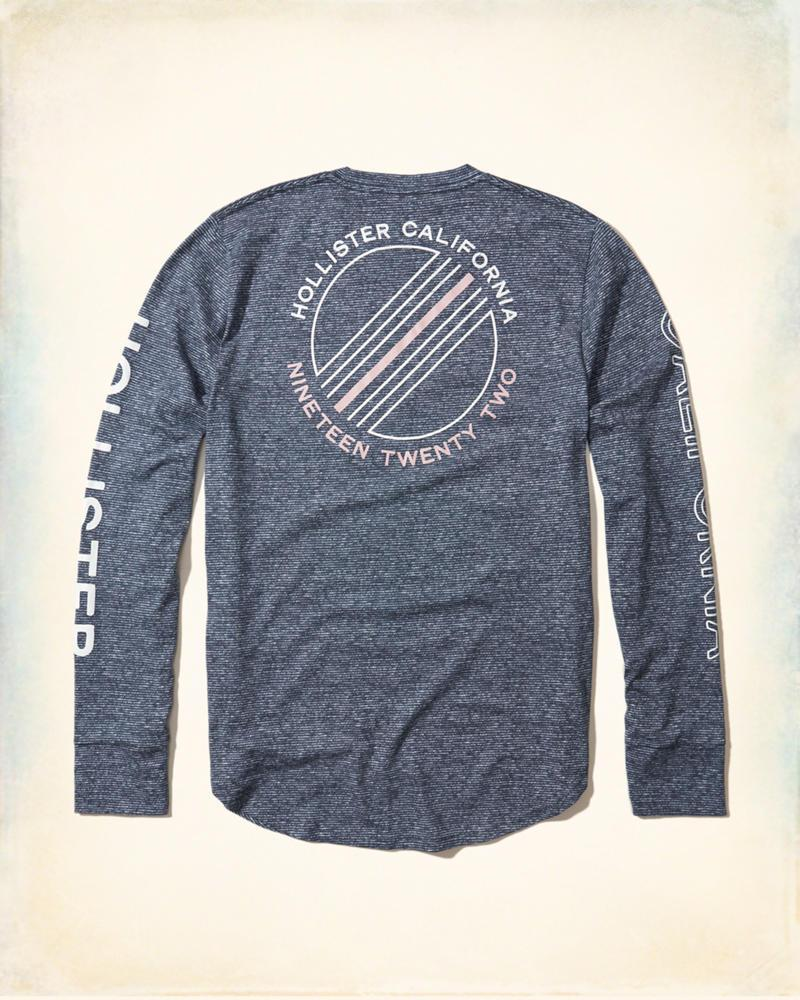teeshirt: (47, 159, 755, 951)
